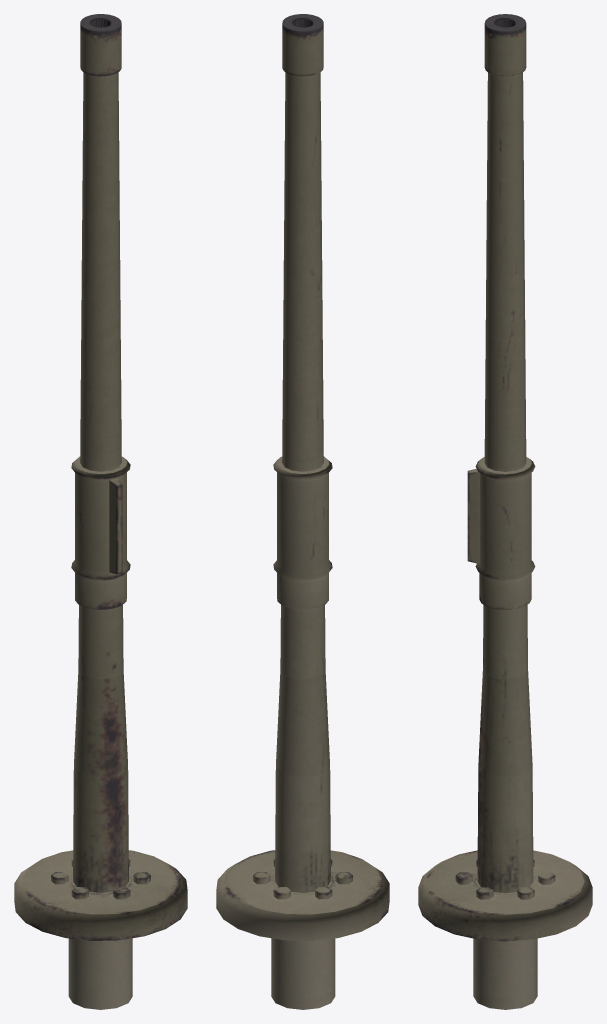
The model's file is Gun_02.glb.
The picture shows the model from 3 angles, left to right: view 1: azimuth 30°, elevation 25°; view 2: azimuth 150°, elevation 25°; view 3: azimuth 270°, elevation 25°; orthographic projection.
Parts seen in each view (by area): view 1: set_0_group_0; view 2: set_0_group_0; view 3: set_0_group_0.
Boxes of the visible parts, <box> form: set_0_group_0: <box>14,14,187,1009</box>; set_0_group_0: <box>216,14,389,1009</box>; set_0_group_0: <box>418,14,592,1009</box>.
Size of the model in its own units: 0.7 by 4.31 by 0.7.
1 material, 1 textured.
